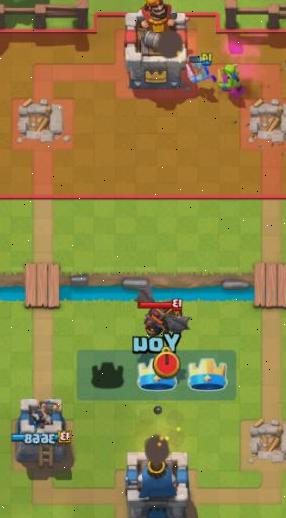enemy_lava_hound: (132, 293, 193, 343)
player_goblins: (183, 50, 218, 89), (217, 58, 248, 98)
